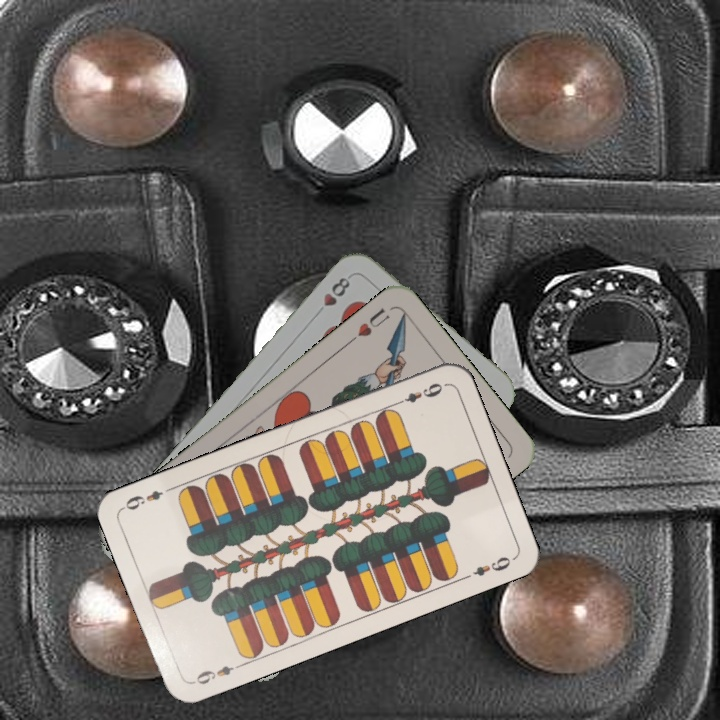E9: (391, 378, 448, 408), (188, 659, 245, 688)
H8: (311, 273, 353, 320)
HU: (345, 304, 392, 346)
